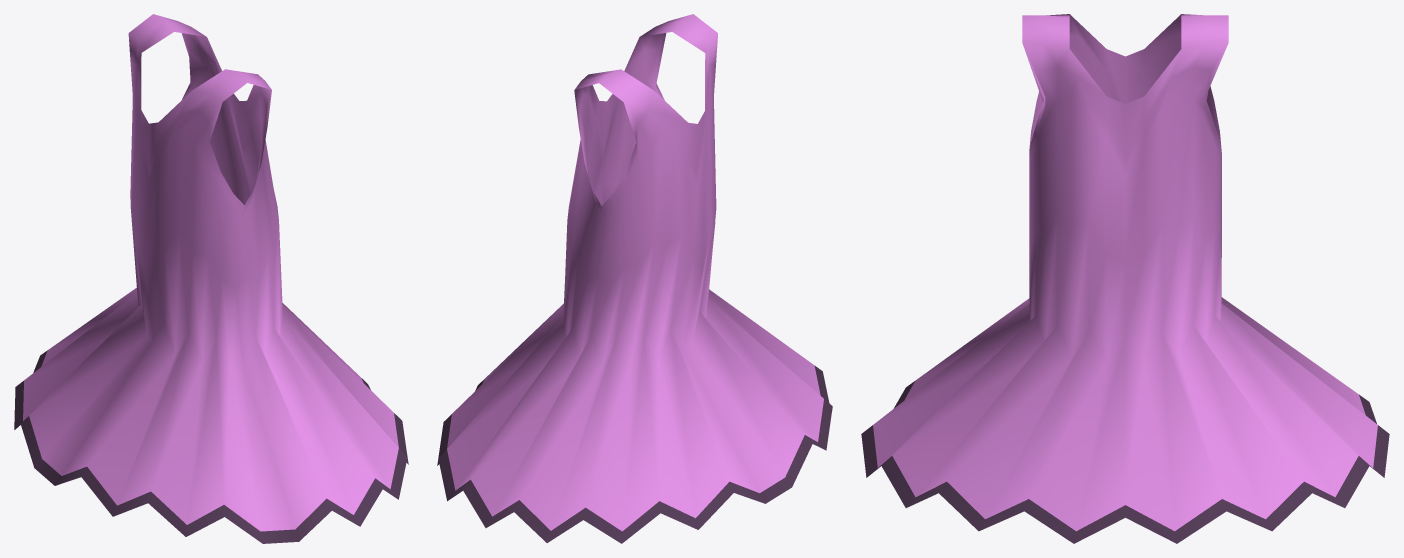
File: Dress.fbx
3 renders of one model, left to right at view 1: azimuth 30°, elevation 25°; view 2: azimuth 150°, elevation 25°; view 3: azimuth 270°, elevation 25°, orthographic. The views are drawn at different scales.
Parts seen in each view (by area): view 1: Circle; view 2: Circle; view 3: Circle.
Boxes of the visible parts, bbox=[...] form: Circle: bbox=[14, 14, 408, 543]; Circle: bbox=[437, 14, 832, 543]; Circle: bbox=[861, 14, 1389, 543].
Size of the model in its own units: 125 by 154 by 167.
